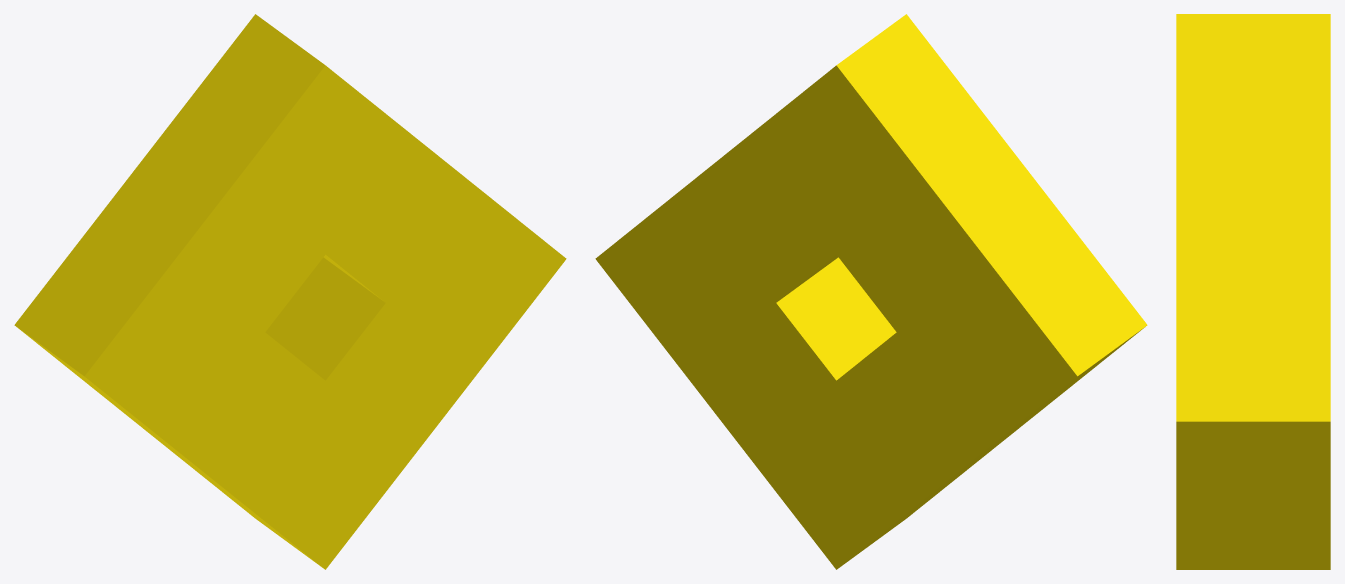
File: EB_chamber_door.glb
The picture shows the model from 3 angles, left to right: view 1: azimuth 30°, elevation 25°; view 2: azimuth 150°, elevation 25°; view 3: azimuth 270°, elevation 25°; orthographic projection. The views are drawn at different scales.
Visible parts, largest first — view 1: door; view 2: door; view 3: door.
Boxes of the visible parts, box(x1,y1,x2,y2) form: door: box(14, 14, 566, 569); door: box(595, 14, 1147, 569); door: box(1176, 14, 1330, 569).
Bounding box in the file's own units: 0.8485 × 0.8485 × 0.2137.
